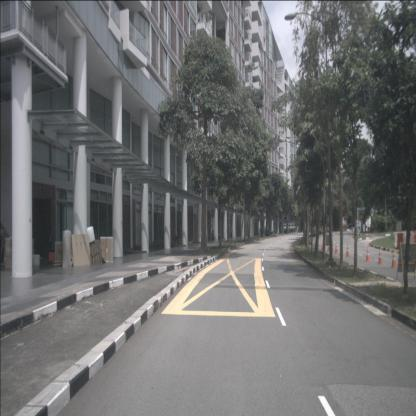movable_object-barrier: (403, 233, 414, 248), (396, 233, 404, 250), (394, 232, 398, 249)
movable_object-trafficcone: (391, 247, 397, 268), (378, 247, 384, 266), (366, 245, 371, 263), (326, 238, 330, 254), (346, 243, 350, 258), (320, 238, 324, 252), (335, 239, 338, 255), (332, 239, 335, 255)
